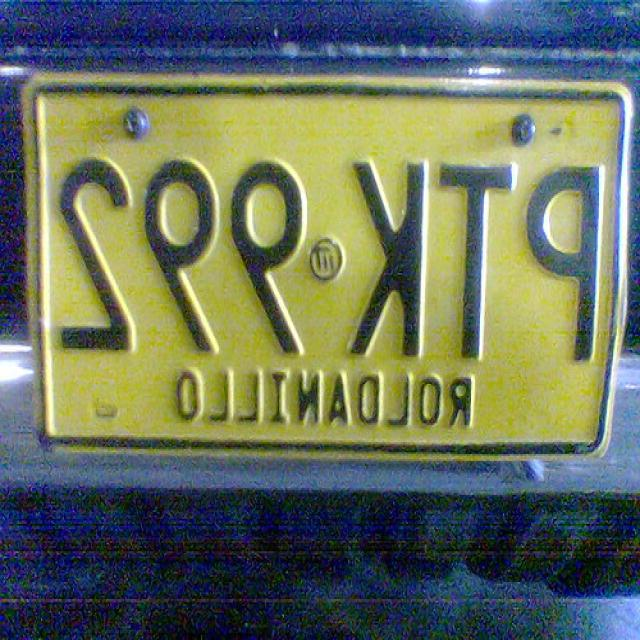placas: (48, 148, 610, 380)
